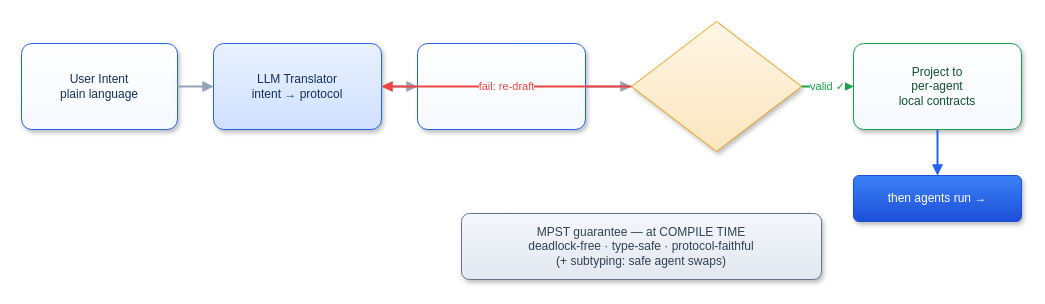
Some shapes in this 1045 by 304 pixel diagram are drawn without their labels. The shapes that lost their labels are listed below. From the top down, each one's centre as x and y in pixels, then its label:
the point at 502,87: Candidate Global Type
the point at 717,87: Scribble MPST checker valid?
